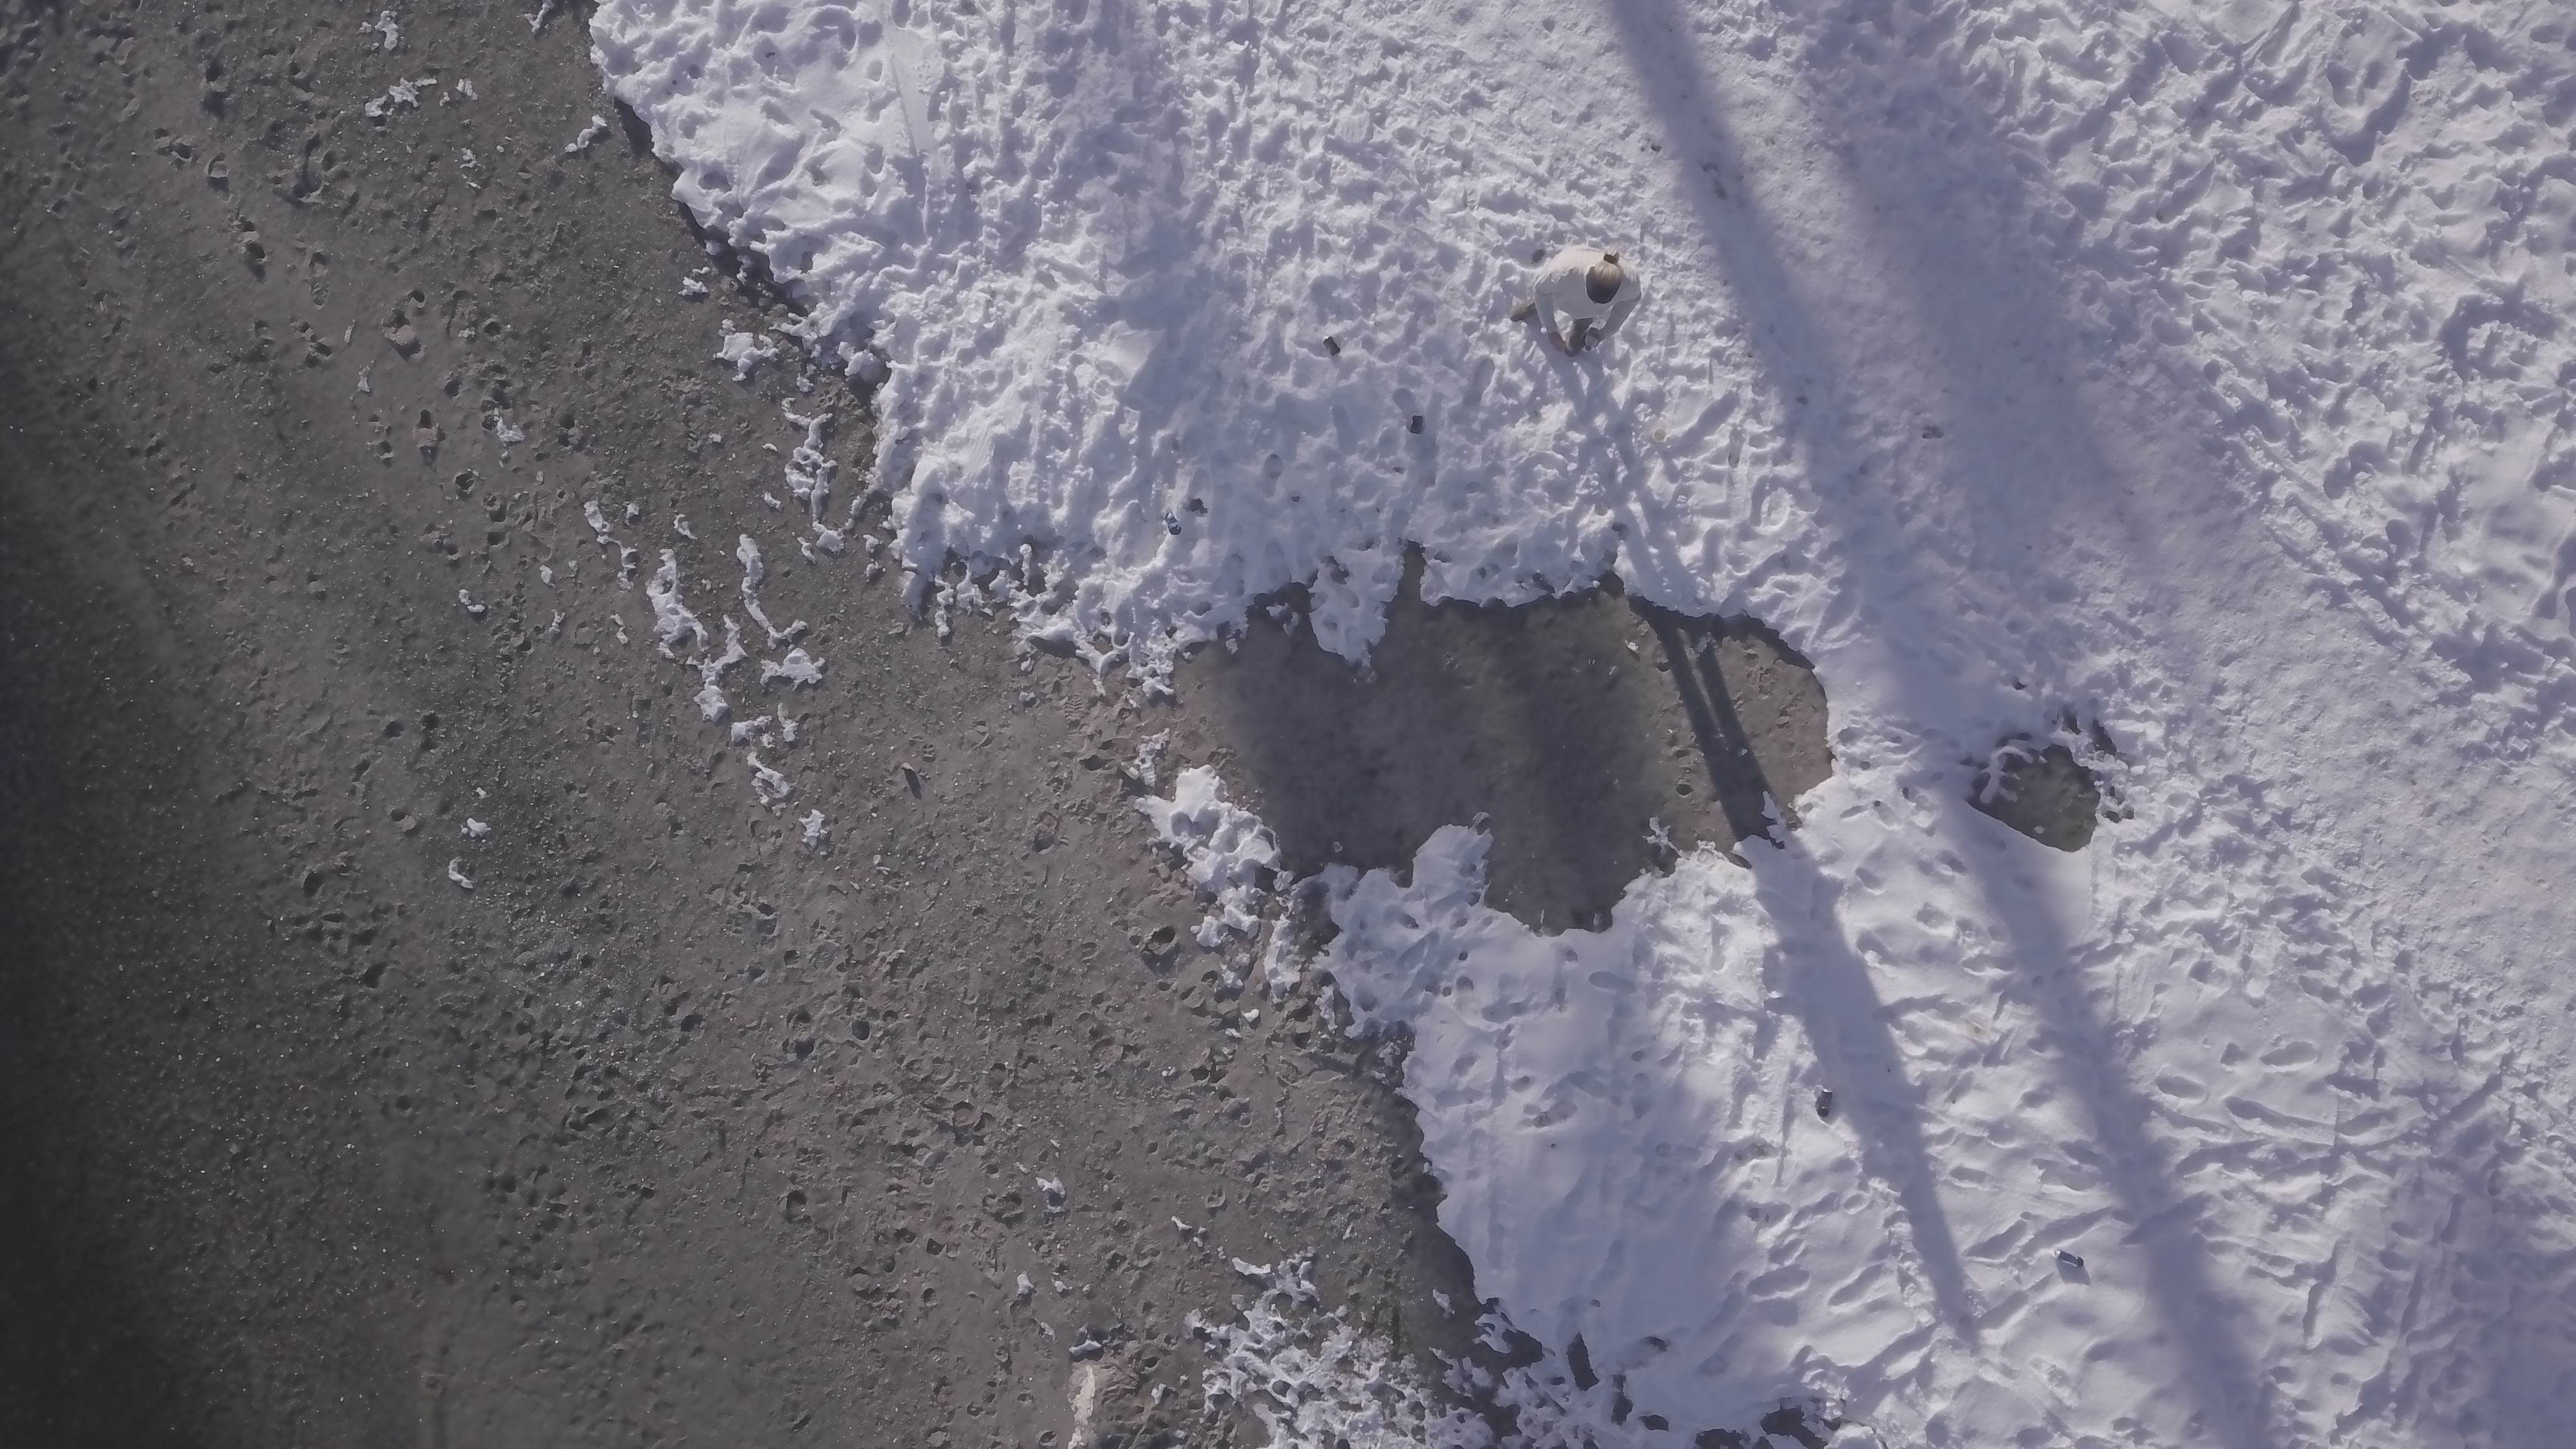Can: (2052, 1249, 2084, 1270), (1322, 336, 1343, 357), (1819, 1088, 1833, 1118), (1408, 414, 1424, 435)
Other: (1164, 508, 1184, 538), (1652, 428, 1668, 444)
